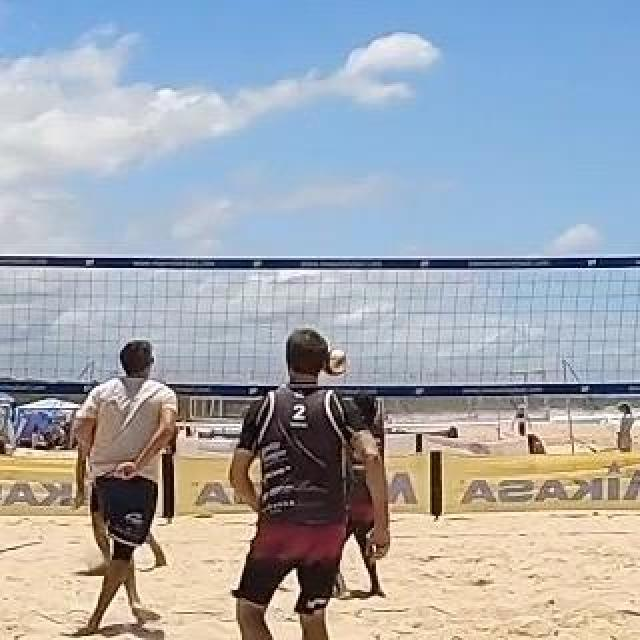volleyball: (327, 349, 347, 373)
